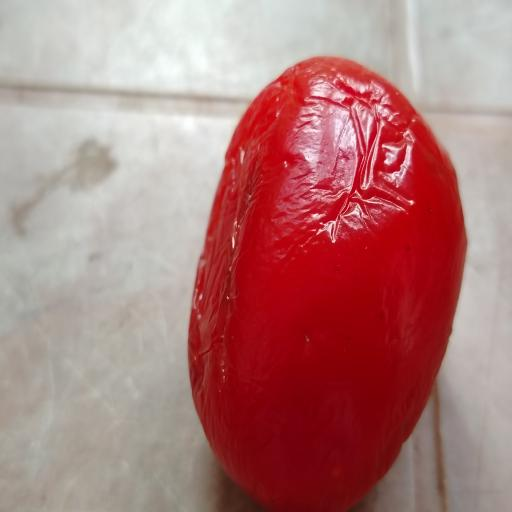spoiled: (189, 57, 466, 512)
